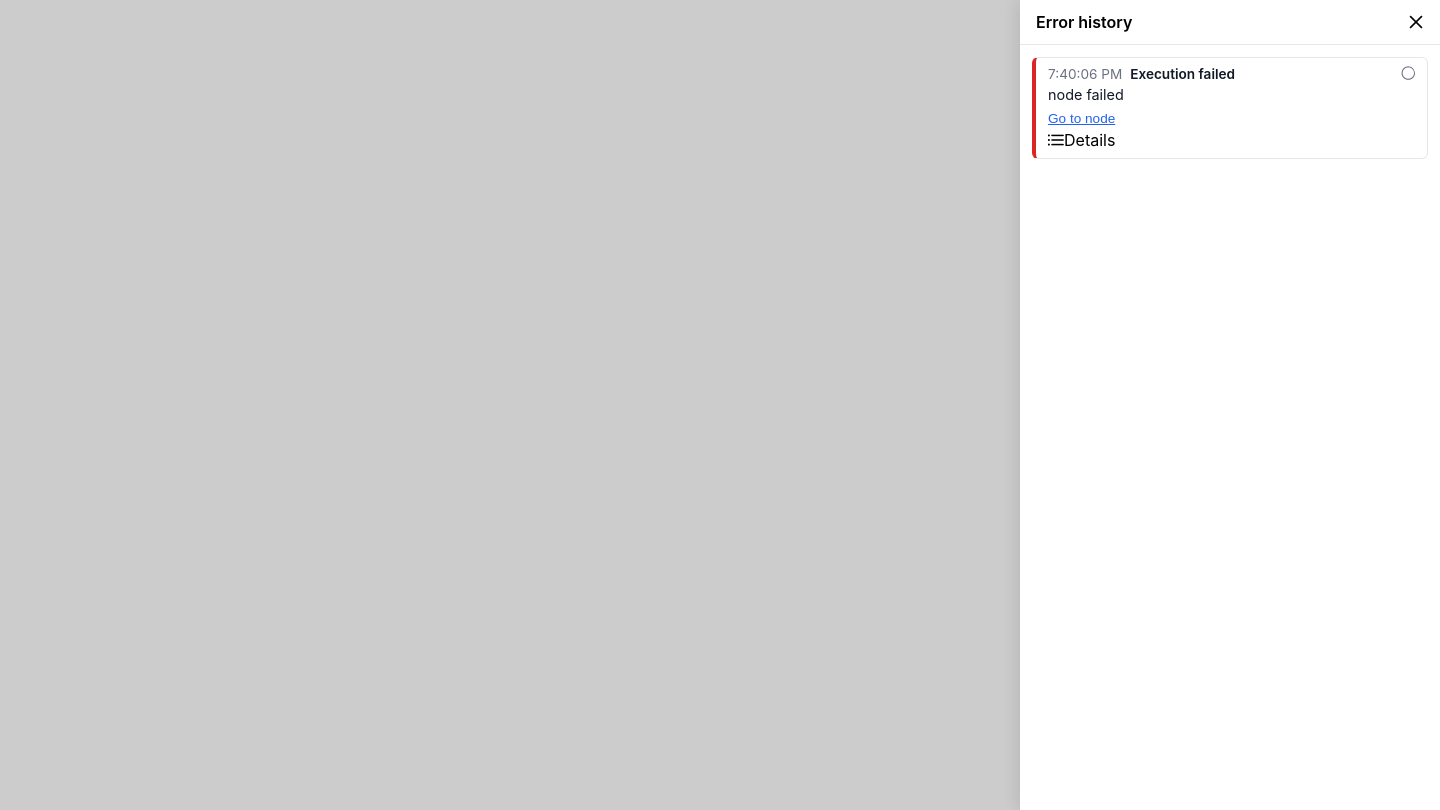
Scenario: ErrorHistoryPanel › opens full error details for entries with expanded detail text
The width and height of the screenshot is (1440, 810).
Click the button with test id "error-row-details" at [1082, 140], box [1048, 130, 1115, 150]
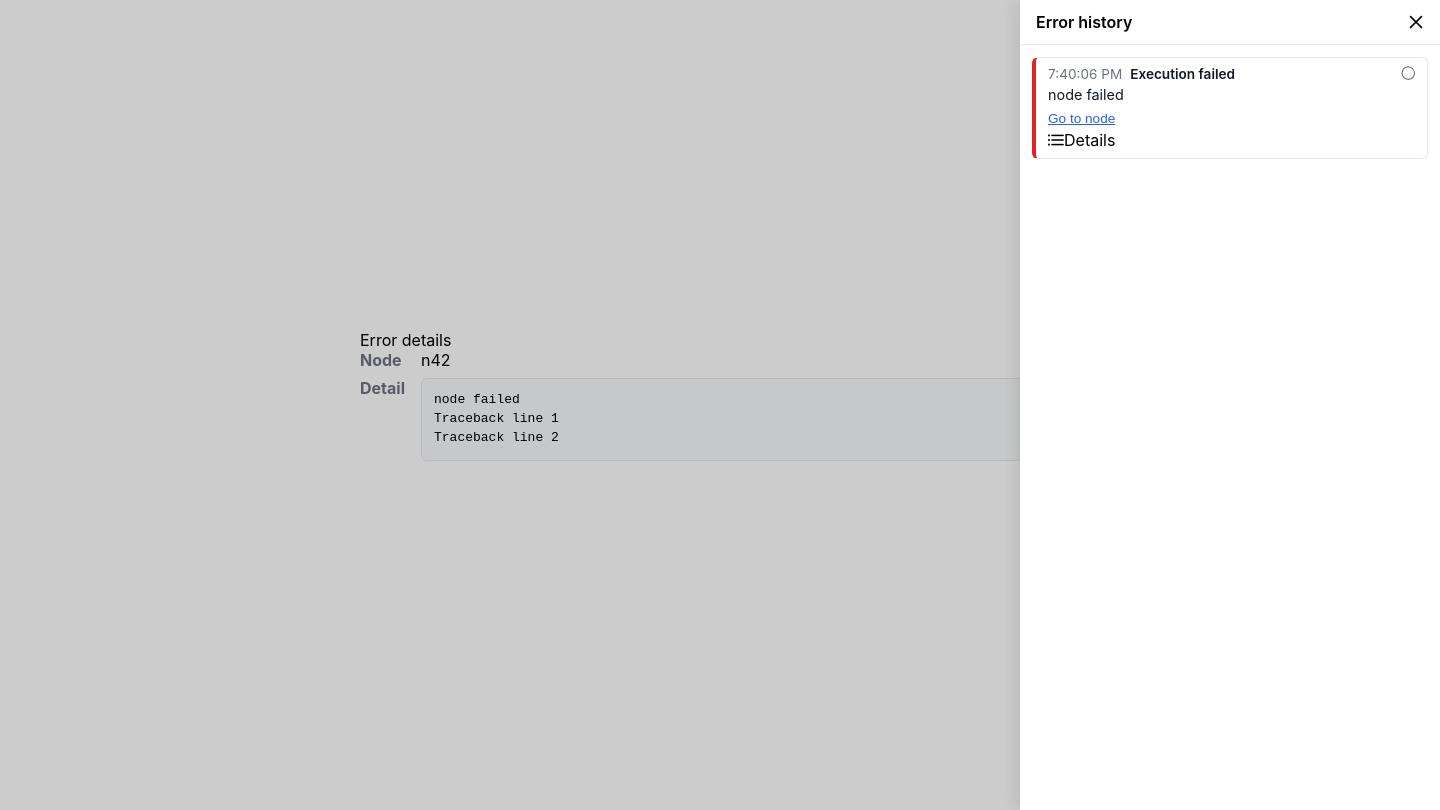
Now the element with test id "error-details-body" shows "Traceback line 2", box [434, 392, 559, 444]
